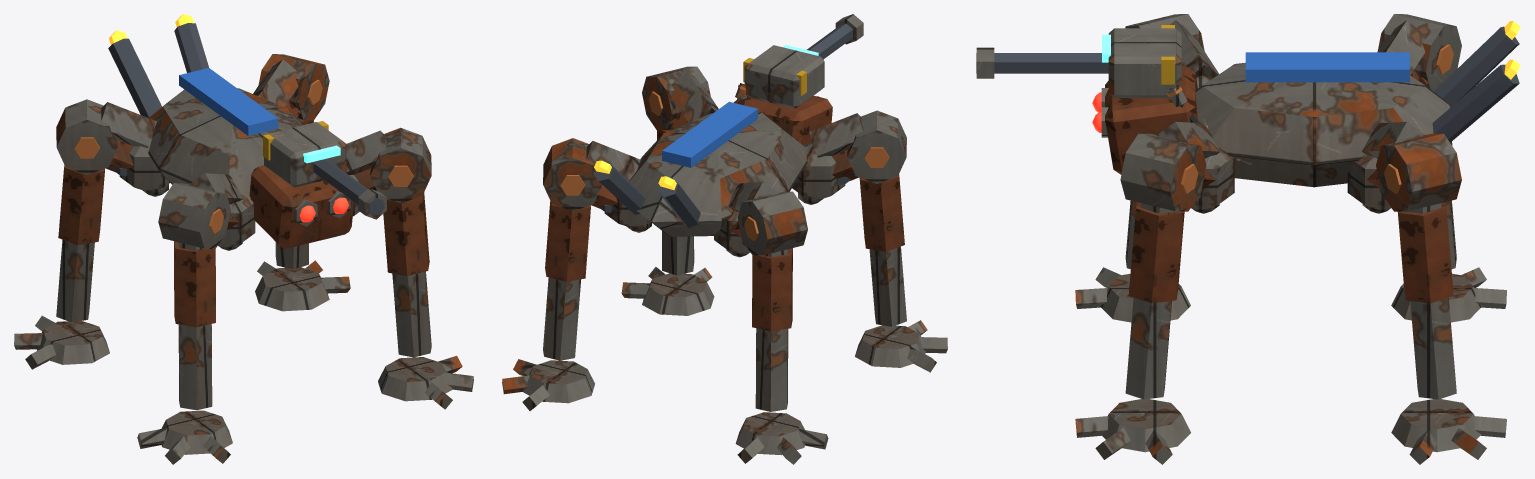
File: quadripode.glb
3 renders of one model, left to right at view 1: azimuth 30°, elevation 25°; view 2: azimuth 150°, elevation 25°; view 3: azimuth 270°, elevation 25°, orthographic. The views are drawn at different scales.
Visible parts, largest first — view 1: quadripode, zshin_0_l, zshin_0_r, zshin_1_l, zleg_1_l, zleg_0_l, zleg_0_r, zshin_1_r, zleg_1_r; view 2: quadripode, zshin_1_l, zshin_1_r, zshin_0_l, zleg_0_l, zleg_1_r, zleg_1_l, zshin_0_r, zleg_0_r; view 3: quadripode, zshin_1_r, zshin_0_r, zleg_0_r, zleg_1_r, zleg_1_l, zshin_1_l, zshin_0_l, zleg_0_l.
Boxes of the visible parts, left/top/right/bottom form: quadripode: left=108, top=14, right=386, bottom=249; zshin_0_l: left=137, top=241, right=232, bottom=464; zshin_0_r: left=378, top=192, right=473, bottom=409; zshin_1_l: left=14, top=165, right=109, bottom=369; zleg_1_l: left=56, top=99, right=169, bottom=196; zleg_0_l: left=158, top=173, right=255, bottom=250; zleg_0_r: left=345, top=127, right=431, bottom=216; zshin_1_r: left=255, top=118, right=350, bottom=311; zleg_1_r: left=253, top=54, right=329, bottom=119; quadripode: left=593, top=14, right=863, bottom=236; zshin_1_l: left=735, top=248, right=828, bottom=464; zshin_1_r: left=502, top=201, right=594, bottom=410; zshin_0_l: left=855, top=174, right=947, bottom=372; zleg_0_l: left=792, top=110, right=906, bottom=204; zleg_1_r: left=543, top=138, right=651, bottom=232; zleg_1_l: left=714, top=182, right=807, bottom=257; zshin_0_r: left=621, top=129, right=714, bottom=315; zleg_0_r: left=642, top=66, right=718, bottom=130; quadripode: left=976, top=21, right=1520, bottom=187; zshin_1_r: left=1391, top=202, right=1506, bottom=464; zshin_0_r: left=1075, top=202, right=1190, bottom=464; zleg_0_r: left=1120, top=121, right=1234, bottom=213; zleg_1_r: left=1347, top=121, right=1461, bottom=213; zleg_1_l: left=1377, top=14, right=1461, bottom=91; zshin_1_l: left=1391, top=141, right=1506, bottom=322; zshin_0_l: left=1075, top=200, right=1190, bottom=322; zleg_0_l: left=1125, top=14, right=1218, bottom=88.
Bounding box in the file's own units: 0.9642 × 0.8054 × 1.19.
11 materials, 2 textured.
